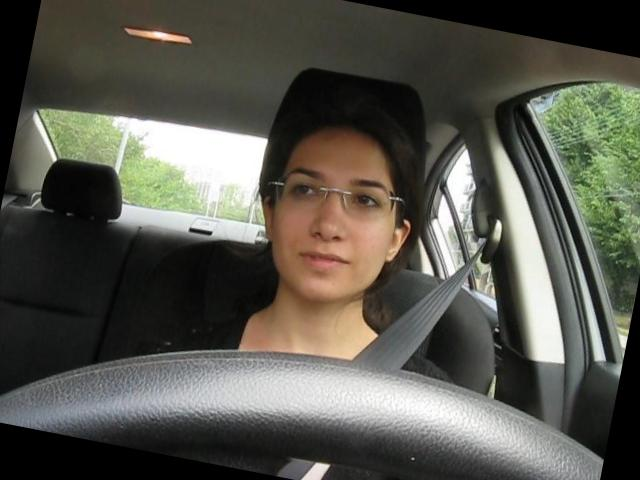eye_open: (346, 186, 386, 214), (286, 177, 322, 203)
face: (260, 135, 408, 314)
